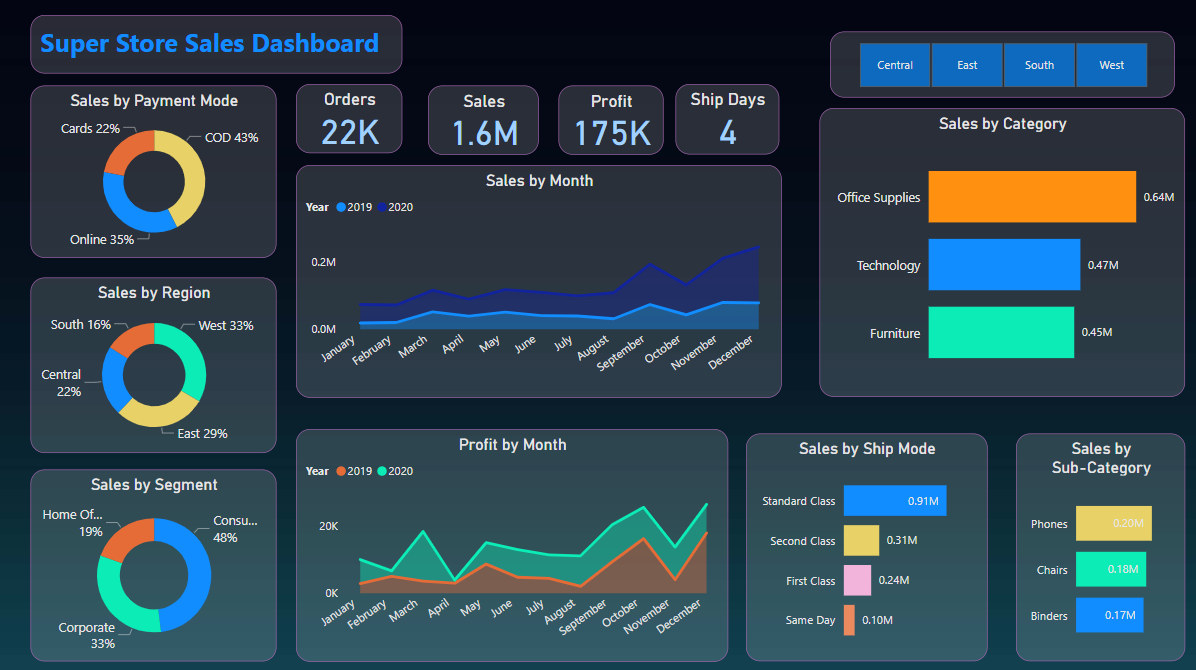

This screenshot's page, from the dashboard's own definition file:
{"tool":"powerbi","page":{"name":"Page 1","canvas":[1280,720],"ordinal":0},"visuals":[{"type":"clusteredBarChart","title":"Sales by Category","fields":{"Category":["SuperStore_Sales_Dataset.Category"],"Y":["Sum(SuperStore_Sales_Dataset.Sales)"]},"box":[875,117.2,387.4,306.1],"z":0},{"type":"clusteredBarChart","title":"Sales by Sub-Category","fields":{"Category":["SuperStore_Sales_Dataset.Sub-Category"],"Y":["Sum(SuperStore_Sales_Dataset.Sales)"]},"box":[1084,462.5,179.6,241.6],"z":1000},{"type":"clusteredBarChart","title":"Sales by Ship Mode","fields":{"Category":["SuperStore_Sales_Dataset.Ship Mode"],"Y":["Sum(SuperStore_Sales_Dataset.Sales)"]},"box":[797.9,462.5,255.9,241.6],"z":2000},{"type":"stackedAreaChart","title":"Sales by Month","fields":{"Category":["SuperStore_Sales_Dataset.Order Date.Variation.Date Hierarchy.Month","SuperStore_Sales_Dataset.Order Date.Variation.Date Hierarchy.Day"],"Y":["Sum(SuperStore_Sales_Dataset.Sales)"],"Series":["SuperStore_Sales_Dataset.Order Date.Variation.Date Hierarchy.Year"]},"box":[321.1,178,515,246.4],"z":3000},{"type":"stackedAreaChart","title":"  Profit by Month","fields":{"Category":["SuperStore_Sales_Dataset.Order Date.Variation.Date Hierarchy.Month","SuperStore_Sales_Dataset.Order Date.Variation.Date Hierarchy.Day"],"Series":["SuperStore_Sales_Dataset.Order Date.Variation.Date Hierarchy.Year"],"Y":["Sum(SuperStore_Sales_Dataset.Profit)"]},"box":[321.1,457.7,457.7,246.4],"z":4000},{"type":"donutChart","title":" Sales by Segment","fields":{"Category":["SuperStore_Sales_Dataset.Segment"],"Y":["Sum(SuperStore_Sales_Dataset.Sales)"]},"box":[39.7,500.7,260.7,203.4],"z":5000},{"type":"donutChart","title":"Sales by Payment Mode","fields":{"Category":["SuperStore_Sales_Dataset.Payment Mode"],"Y":["Sum(SuperStore_Sales_Dataset.Sales)"]},"box":[39.7,93.8,260.7,182.8],"z":6000},{"type":"slicer","fields":{"Values":["SuperStore_Sales_Dataset.Region"]},"box":[886.9,36.6,365.6,69.9],"z":7000},{"type":"card","title":"Sales","fields":{"Values":["Sum(SuperStore_Sales_Dataset.Sales)"]},"box":[460.9,93.8,117.6,73.1],"z":8000},{"type":"card","title":"Orders","fields":{"Values":["Sum(SuperStore_Sales_Dataset.Quantity)"]},"box":[321.1,92.2,112.8,73.1],"z":9000},{"type":"card","title":"Profit","fields":{"Values":["Sum(SuperStore_Sales_Dataset.Profit)"]},"box":[599.2,93.8,111.3,73.1],"z":10000},{"type":"card","title":"Ship Days","fields":{"Values":["Avg(SuperStore_Sales_Dataset.Avg-Delivery)"]},"box":[723.2,92.2,109.7,74.7],"z":11000},{"type":"textbox","box":[39.7,19.1,394.2,62],"z":12000},{"type":"donutChart","title":" Sales by Region","fields":{"Category":["SuperStore_Sales_Dataset.Region"],"Y":["Sum(SuperStore_Sales_Dataset.Sales)"]},"box":[39.7,297.2,260.7,186],"z":13000}]}

Visuals, with their boxes in screenshot pixels (x1, y1, x2, y2), scaled from the page's 1280x720 canvas onto the 1196x670 screenshot:
"Sales by Category" clusteredBarChart: region(818, 109, 1180, 394)
"Sales by Sub-Category" clusteredBarChart: region(1013, 430, 1181, 655)
"Sales by Ship Mode" clusteredBarChart: region(746, 430, 985, 655)
"Sales by Month" stackedAreaChart: region(300, 166, 781, 395)
"  Profit by Month" stackedAreaChart: region(300, 426, 728, 655)
" Sales by Segment" donutChart: region(37, 466, 281, 655)
"Sales by Payment Mode" donutChart: region(37, 87, 281, 257)
slicer - SuperStore_Sales_Dataset.Region: region(829, 34, 1170, 99)
"Sales" card: region(431, 87, 541, 155)
"Orders" card: region(300, 86, 405, 154)
"Profit" card: region(560, 87, 664, 155)
"Ship Days" card: region(676, 86, 778, 155)
textbox: region(37, 18, 405, 75)
" Sales by Region" donutChart: region(37, 277, 281, 450)
